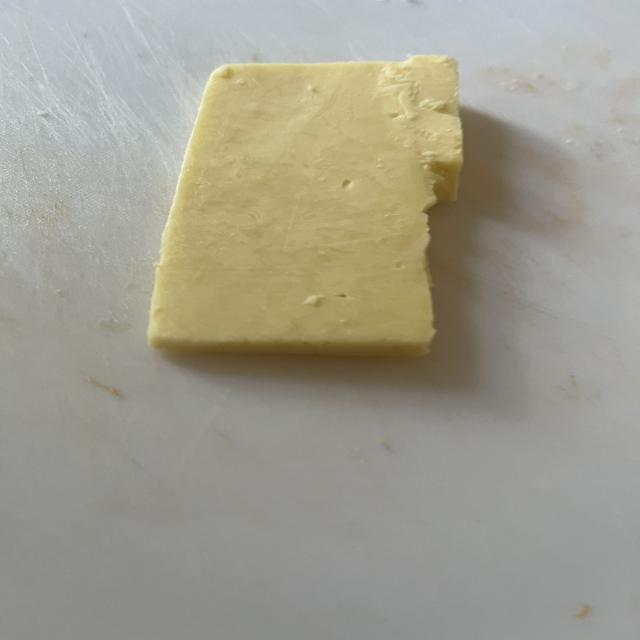cheese: (148, 56, 463, 356)
